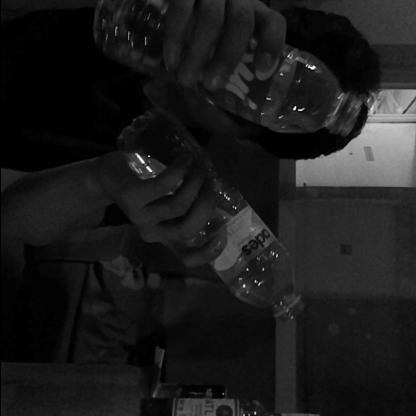plastic_bottles: (117, 116, 315, 326), (95, 5, 359, 136)
